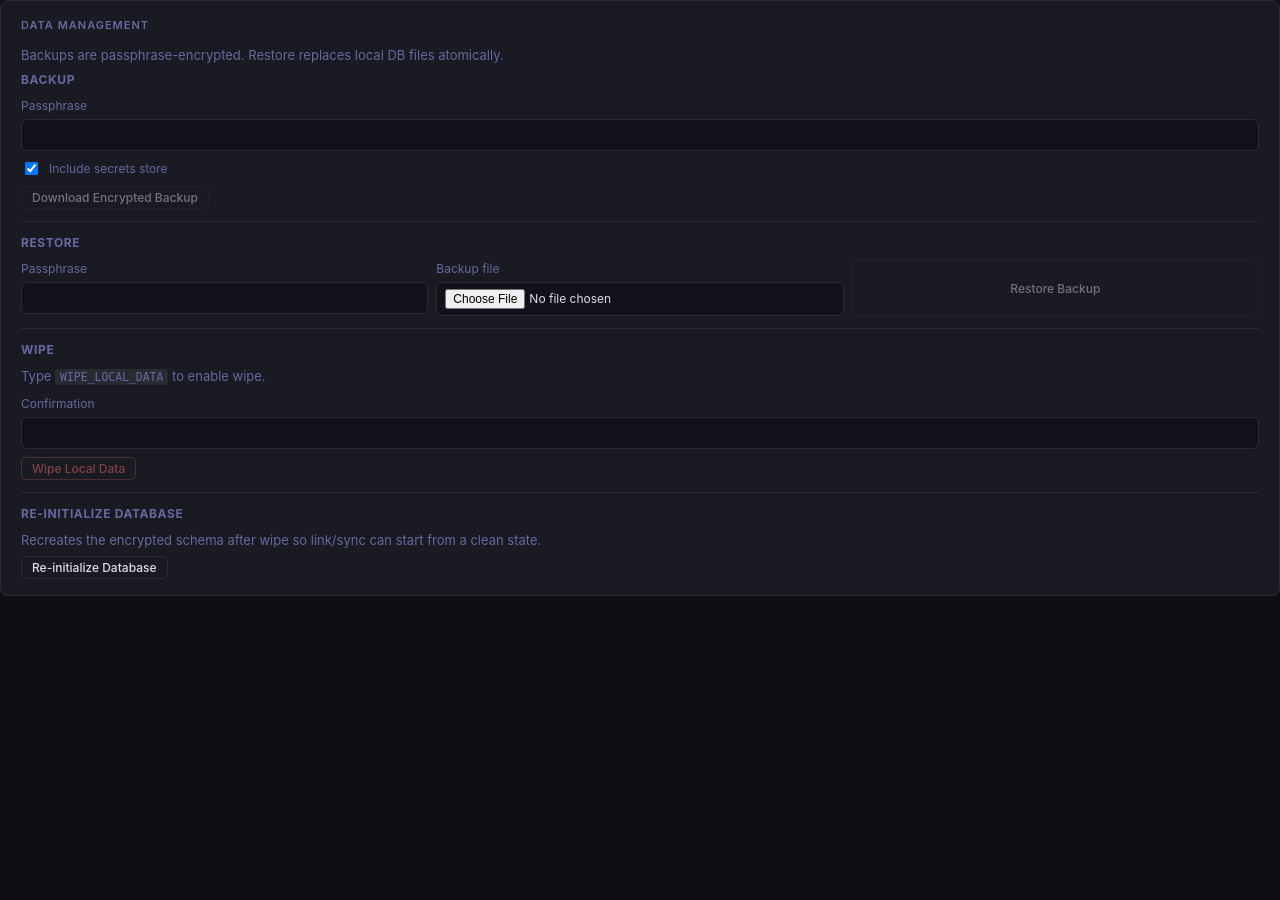
Scenario: DataManagementPanel › reports when backup save is canceled  REQ: ACC-BKP-001
This screenshot has width=1280, height=900.
In the password field with test id "backup-passphrase-input": x=640, y=135 [21,119,1259,151], type "m5-passphrase"
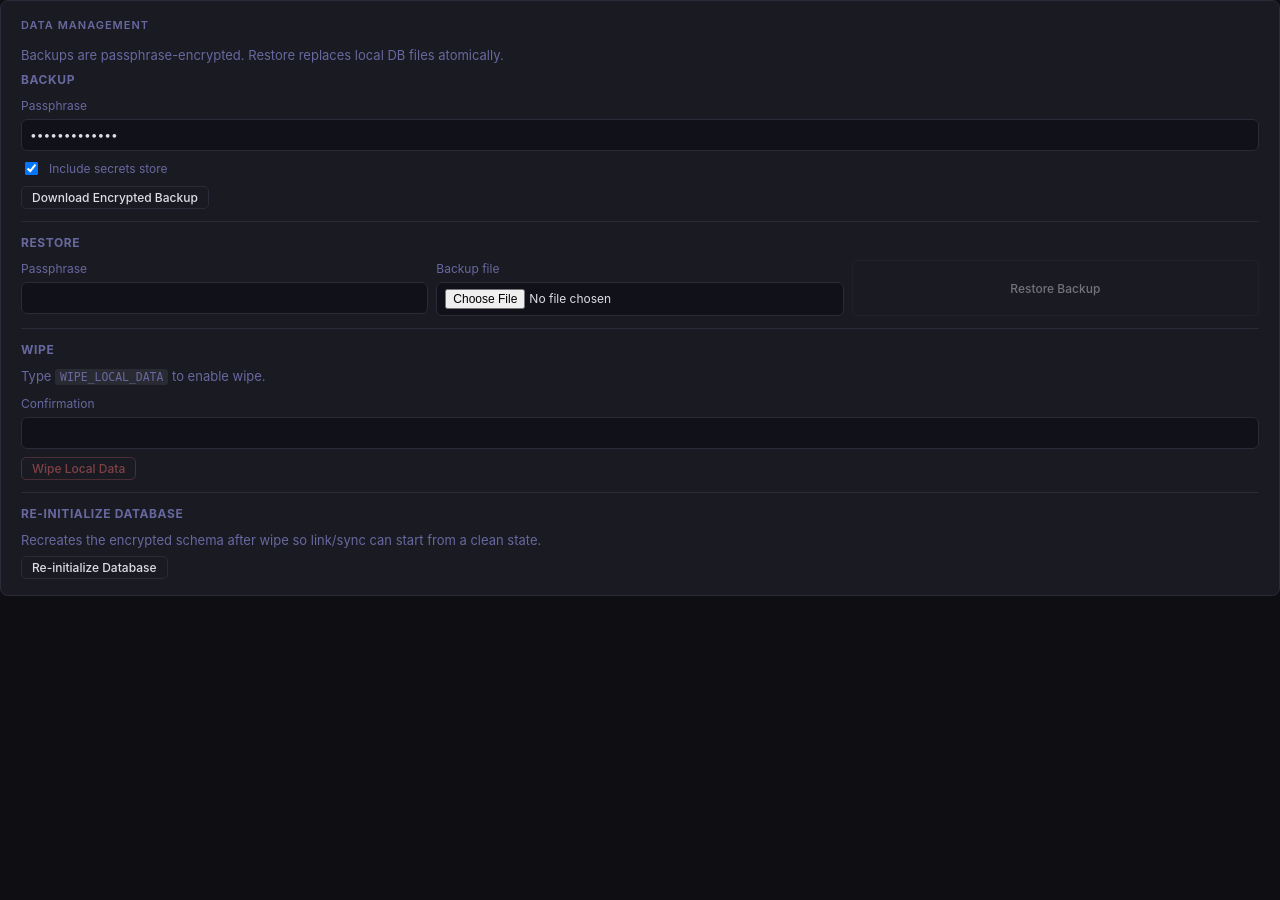
Click the button with test id "backup-download-btn": x=115, y=198 [21,186,209,209]
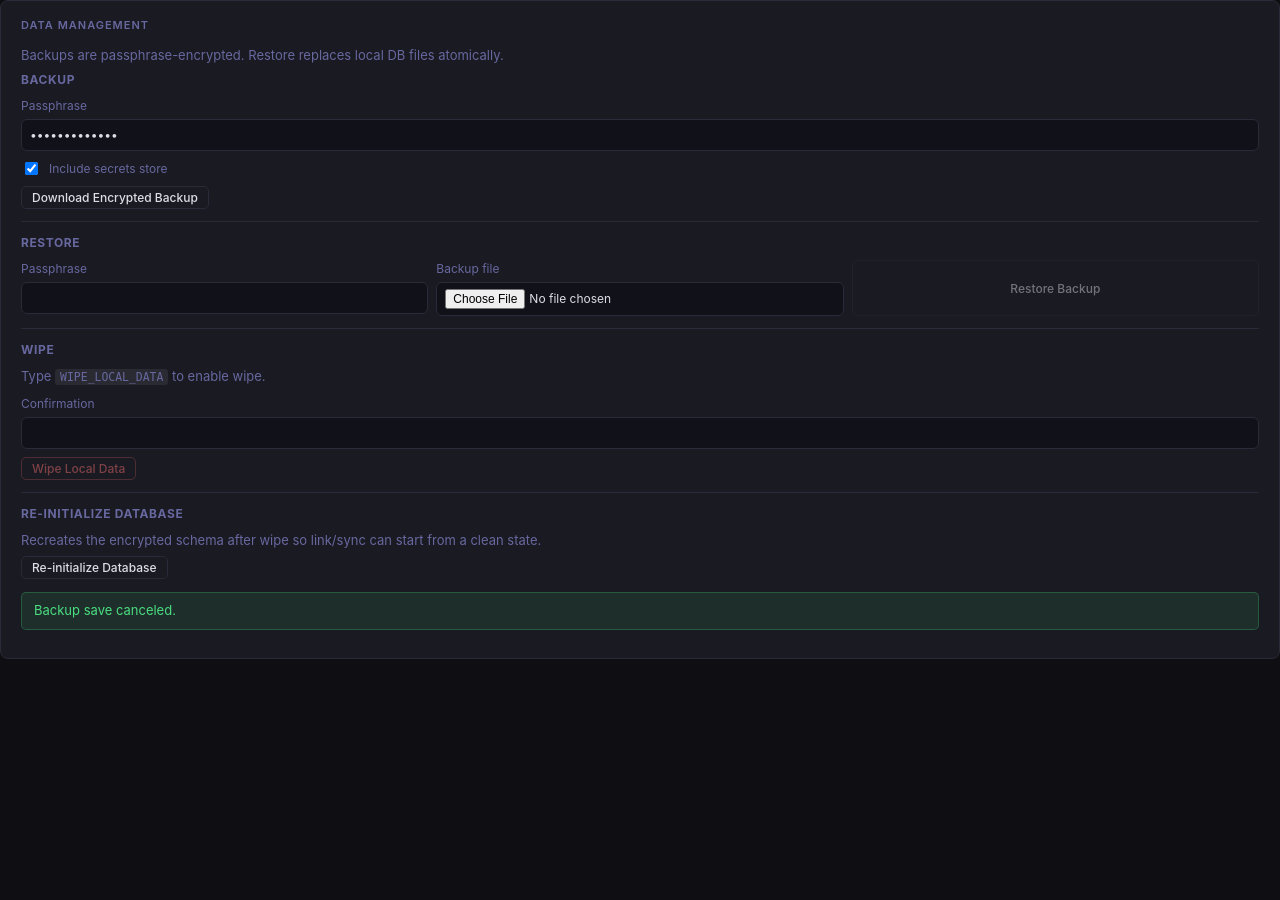
Expected: the text "Backup save canceled." is shown, [21,592,1259,630]
